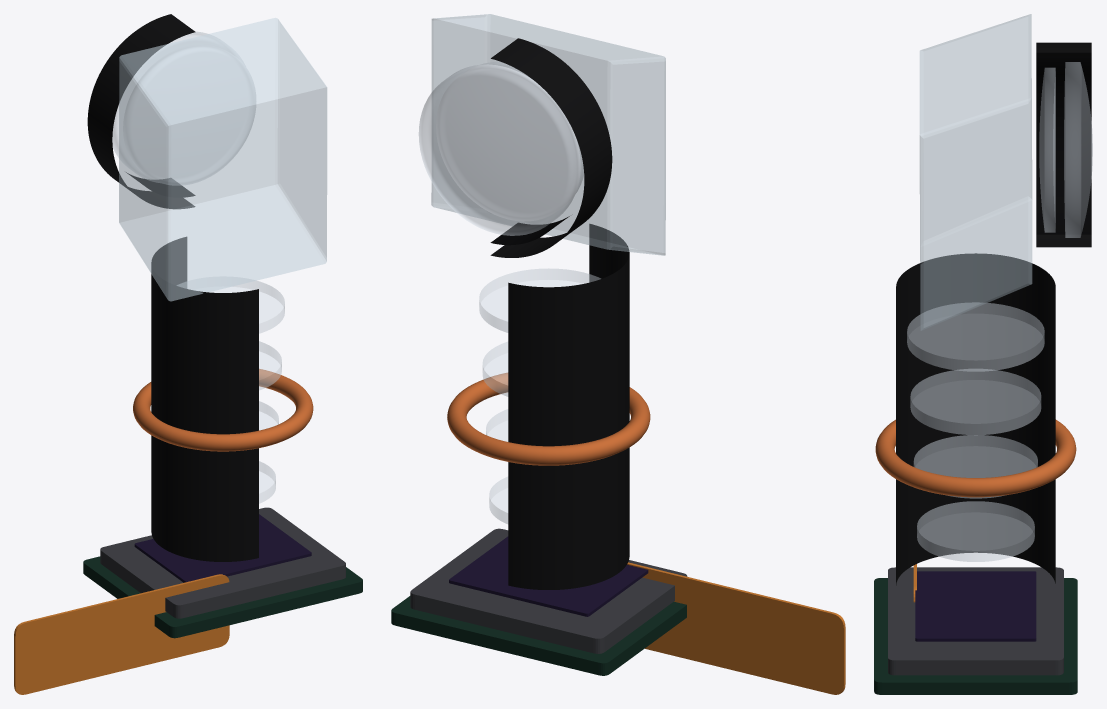
Rendered from telephoto-camera.glb.
3 views of the same model, side by side, from view 1: azimuth 30°, elevation 25°; view 2: azimuth 150°, elevation 25°; view 3: azimuth 270°, elevation 25° (orthographic). The views are drawn at different scales.
Visible parts, largest first — view 1: telephoto-camera; view 2: telephoto-camera; view 3: telephoto-camera.
Part boxes in pixels (bbox=[...]): telephoto-camera: bbox=[14, 14, 362, 694]; telephoto-camera: bbox=[391, 14, 845, 694]; telephoto-camera: bbox=[874, 14, 1092, 694].
Bounding box in the file's own units: 0.1033 × 0.1687 × 0.053.
